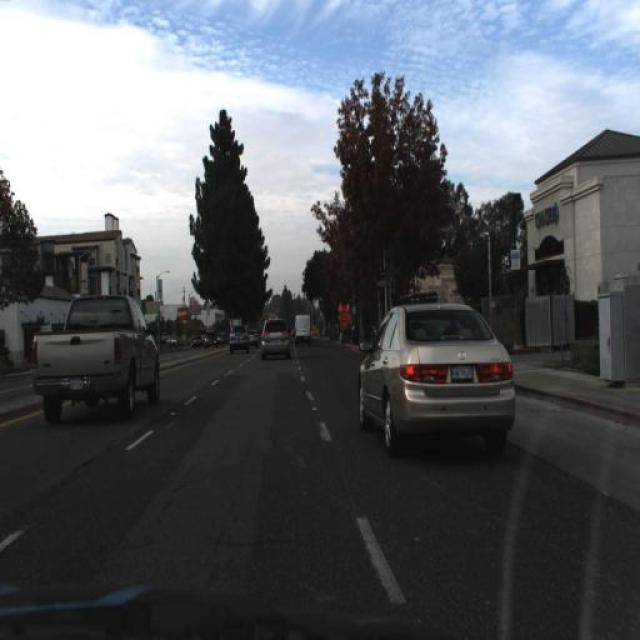car: (350, 296, 522, 462), (24, 282, 168, 434), (254, 310, 295, 366), (291, 305, 318, 353), (225, 316, 251, 359), (294, 310, 312, 340), (204, 330, 220, 350), (192, 332, 206, 352), (242, 323, 256, 342)
